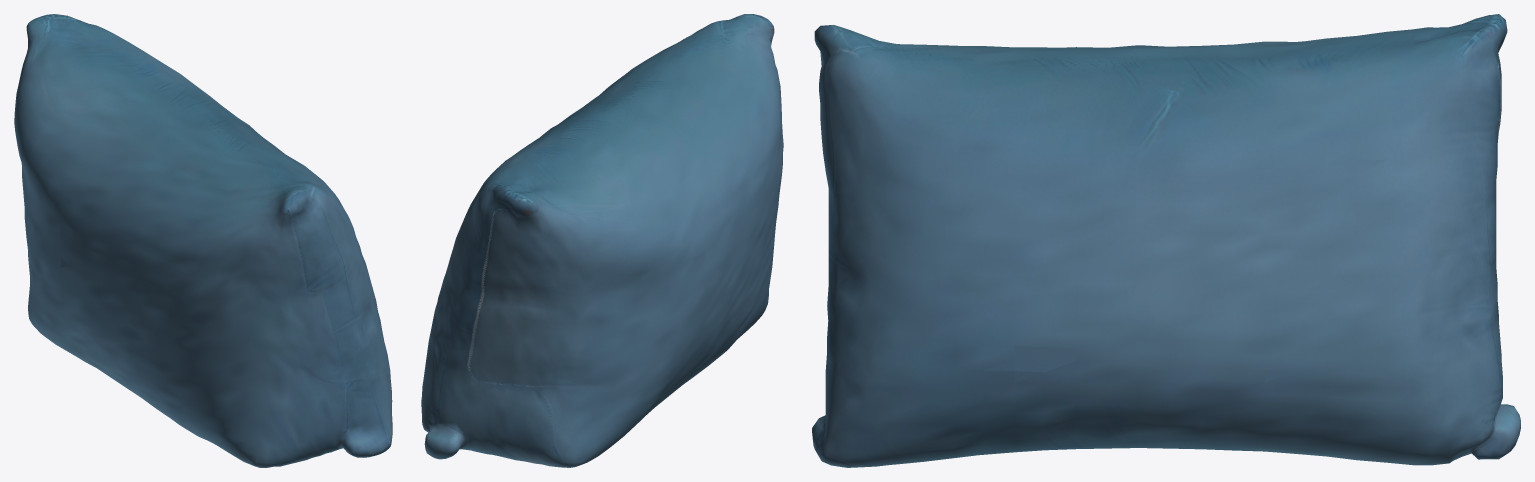
Rendered from pillow.fbx.
3 renders of one model, left to right at view 1: azimuth 30°, elevation 25°; view 2: azimuth 150°, elevation 25°; view 3: azimuth 270°, elevation 25°, orthographic. The views are drawn at different scales.
Parts seen in each view (by area): view 1: tripo_node_e8f7b63e; view 2: tripo_node_e8f7b63e; view 3: tripo_node_e8f7b63e.
Part boxes in pixels (box(x1,y1,x2,y2)): tripo_node_e8f7b63e: box(14, 14, 392, 467); tripo_node_e8f7b63e: box(421, 14, 783, 467); tripo_node_e8f7b63e: box(812, 14, 1520, 467).
Bounding box in the file's own units: 44 × 58.67 × 93.8.
Materials: 1 (1 with a texture image).
